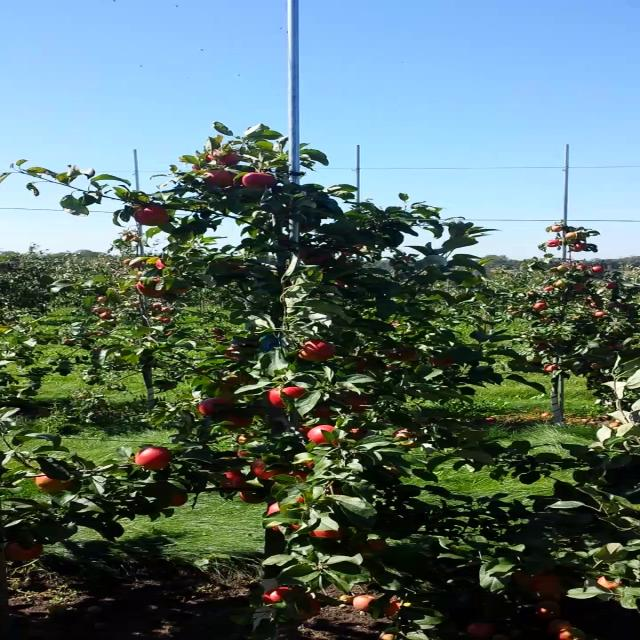apple: (511, 572, 561, 594), (134, 446, 172, 470), (34, 471, 71, 495), (266, 387, 306, 408), (6, 540, 44, 562), (298, 341, 335, 362), (289, 595, 321, 619), (133, 207, 169, 226), (252, 459, 286, 479), (390, 427, 420, 447), (198, 398, 234, 414), (262, 586, 294, 604), (203, 169, 234, 187), (241, 172, 275, 188), (539, 601, 566, 621), (306, 425, 334, 444), (206, 150, 239, 166), (351, 594, 379, 612), (137, 282, 168, 298), (295, 250, 327, 265), (344, 396, 372, 412), (222, 471, 250, 486), (388, 348, 418, 362), (597, 576, 625, 590), (239, 491, 268, 504), (362, 540, 388, 554), (314, 405, 340, 419), (223, 416, 253, 428), (386, 599, 404, 619), (468, 624, 494, 636), (227, 370, 249, 384), (224, 344, 242, 360), (169, 493, 188, 507), (239, 431, 258, 445), (286, 469, 308, 481), (347, 428, 368, 440), (311, 530, 341, 538), (354, 358, 370, 372), (430, 356, 452, 366), (296, 421, 311, 434), (266, 502, 279, 516), (380, 628, 394, 640), (168, 288, 187, 294), (335, 279, 348, 287), (384, 364, 399, 370), (191, 164, 202, 172), (238, 450, 249, 458), (156, 259, 164, 269), (296, 496, 304, 504), (303, 462, 313, 468), (292, 523, 298, 531), (273, 526, 279, 530)
